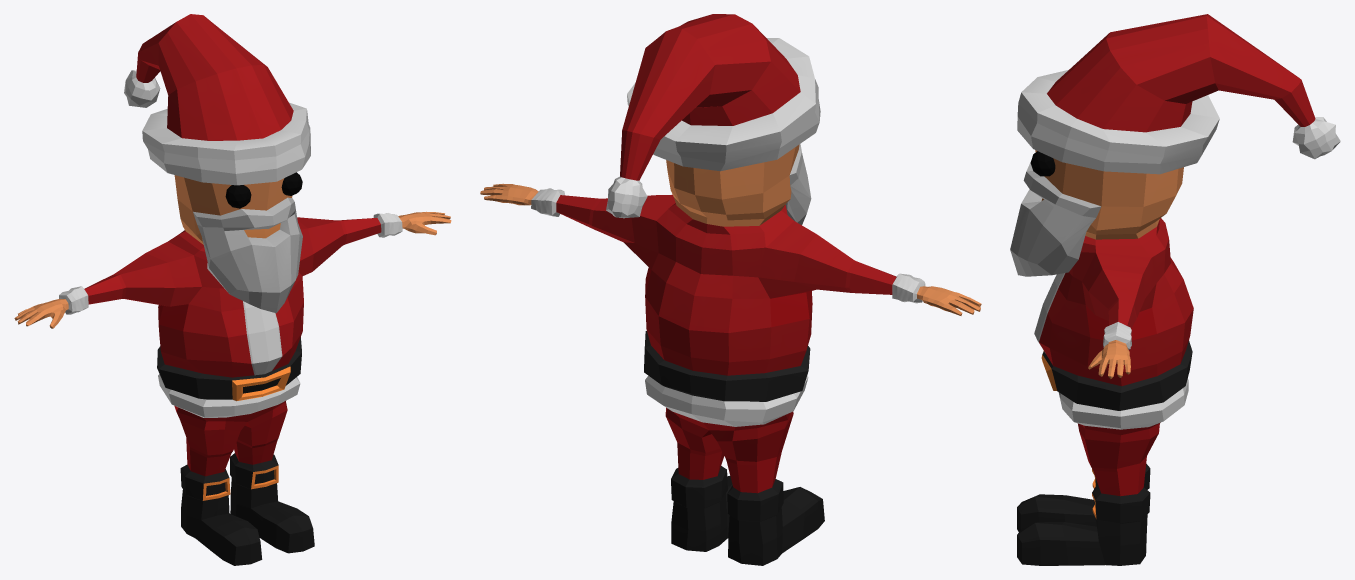
The model's file is goodsanta.glb.
The picture shows the model from 3 angles, left to right: view 1: azimuth 30°, elevation 25°; view 2: azimuth 150°, elevation 25°; view 3: azimuth 270°, elevation 25°; orthographic projection. The views are drawn at different scales.
Parts seen in each view (by area): view 1: Santa; view 2: Santa; view 3: Santa.
Part boxes in pixels (x1,y1,x2,y2): Santa: (14,14,451,565); Santa: (480,14,981,565); Santa: (1010,14,1340,565).
Size of the model in its own units: 2.1 by 2.23 by 1.27.
2 materials, 1 textured.
